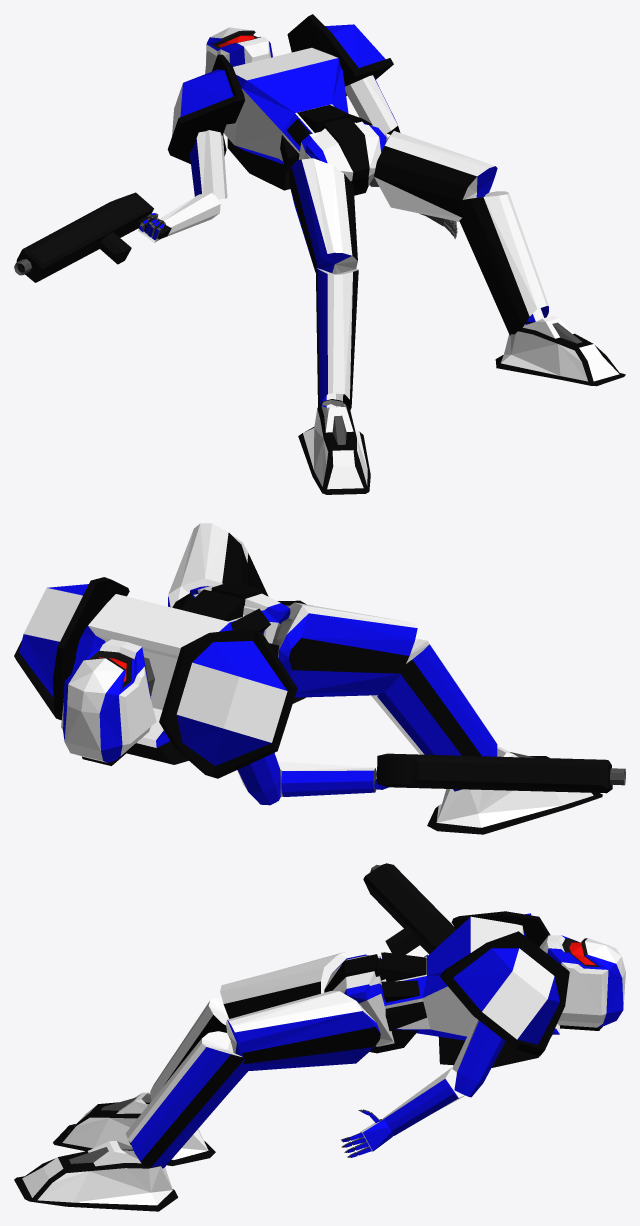
Rendered from robots_000004.obj.
The picture shows the model from 3 angles, top to bottom: view 1: azimuth 30°, elevation 25°; view 2: azimuth 150°, elevation 25°; view 3: azimuth 270°, elevation 25°; orthographic projection. The views are drawn at different scales.
Parts seen in each view (by area): view 1: Chest_plate_Cube.004, R_Thigh.002_Cube.027, R_Shin.002_Cube.029, R_Thigh_Cube.005, Cube_Cube.001, R_Foot.002_Cube.035, R_Shin_Cube.007, R_Foot_Cube, Cube.002_Cube.059, Pelvis_Cube.006, Cube_Cube.021, R_Arm_Cube.002 (+3 smaller); view 2: Cube.002_Cube.059, Chest_plate_Cube.004, R_Thigh_Cube.005, Head_base_Cube.022, Cube_Cube.001, R_Shin_Cube.007, Cube_Cube.021, R_Foot_Cube, R_Thigh.002_Cube.027, R_Forearm_Cube.008, Pelvis_Cube.006, R_Arm_Cube.002 (+1 smaller); view 3: Cube_Cube.021, Chest_plate_Cube.004, R_Thigh.002_Cube.027, R_Shin.002_Cube.029, R_Foot.002_Cube.035, Head_base_Cube.022, Cube_Cube.001, R_Thigh_Cube.005, R_Foot_Cube, Pelvis_Cube.006, L_Arm_Cube.014, L_Forearm_Cube.020 (+3 smaller).
Part boxes in pixels (x1=…): Chest_plate_Cube.004: x1=223, y1=47, x2=371, y2=190; R_Thigh.002_Cube.027: x1=374, y1=131, x2=497, y2=221; R_Shin.002_Cube.029: x1=458, y1=191, x2=548, y2=335; R_Thigh_Cube.005: x1=289, y1=158, x2=357, y2=274; Cube_Cube.001: x1=14, y1=192, x2=171, y2=282; R_Foot.002_Cube.035: x1=495, y1=316, x2=625, y2=386; R_Shin_Cube.007: x1=316, y1=268, x2=358, y2=409; R_Foot_Cube: x1=298, y1=399, x2=370, y2=494; Cube.002_Cube.059: x1=167, y1=54, x2=245, y2=163; Pelvis_Cube.006: x1=299, y1=117, x2=386, y2=195; Cube_Cube.021: x1=287, y1=14, x2=393, y2=95; R_Arm_Cube.002: x1=189, y1=130, x2=227, y2=199; Cube.002_Cube.059: x1=159, y1=628, x2=297, y2=778; Chest_plate_Cube.004: x1=72, y1=589, x2=279, y2=764; R_Thigh_Cube.005: x1=278, y1=602, x2=417, y2=697; Head_base_Cube.022: x1=61, y1=639, x2=156, y2=765; Cube_Cube.001: x1=376, y1=753, x2=625, y2=793; R_Shin_Cube.007: x1=371, y1=639, x2=497, y2=791; Cube_Cube.021: x1=14, y1=577, x2=129, y2=720; R_Foot_Cube: x1=427, y1=747, x2=602, y2=834; R_Thigh.002_Cube.027: x1=168, y1=523, x2=247, y2=607; R_Forearm_Cube.008: x1=278, y1=761, x2=376, y2=796; Pelvis_Cube.006: x1=190, y1=581, x2=290, y2=643; R_Arm_Cube.002: x1=237, y1=753, x2=280, y2=805; Cube_Cube.021: x1=440, y1=931, x2=569, y2=1055; Chest_plate_Cube.004: x1=381, y1=916, x2=559, y2=1067; R_Thigh.002_Cube.027: x1=226, y1=991, x2=380, y2=1070; R_Shin.002_Cube.029: x1=126, y1=1031, x2=250, y2=1168; R_Foot.002_Cube.035: x1=14, y1=1140, x2=177, y2=1211; Head_base_Cube.022: x1=539, y1=935, x2=625, y2=1030; Cube_Cube.001: x1=363, y1=863, x2=456, y2=954; R_Thigh_Cube.005: x1=220, y1=951, x2=353, y2=1018; R_Foot_Cube: x1=53, y1=1092, x2=215, y2=1166; Pelvis_Cube.006: x1=324, y1=954, x2=418, y2=1053; L_Arm_Cube.014: x1=452, y1=1018, x2=505, y2=1097; L_Forearm_Cube.020: x1=382, y1=1067, x2=464, y2=1135.
Bounding box in the file's own units: 2.79 × 1.67 × 3.12.
